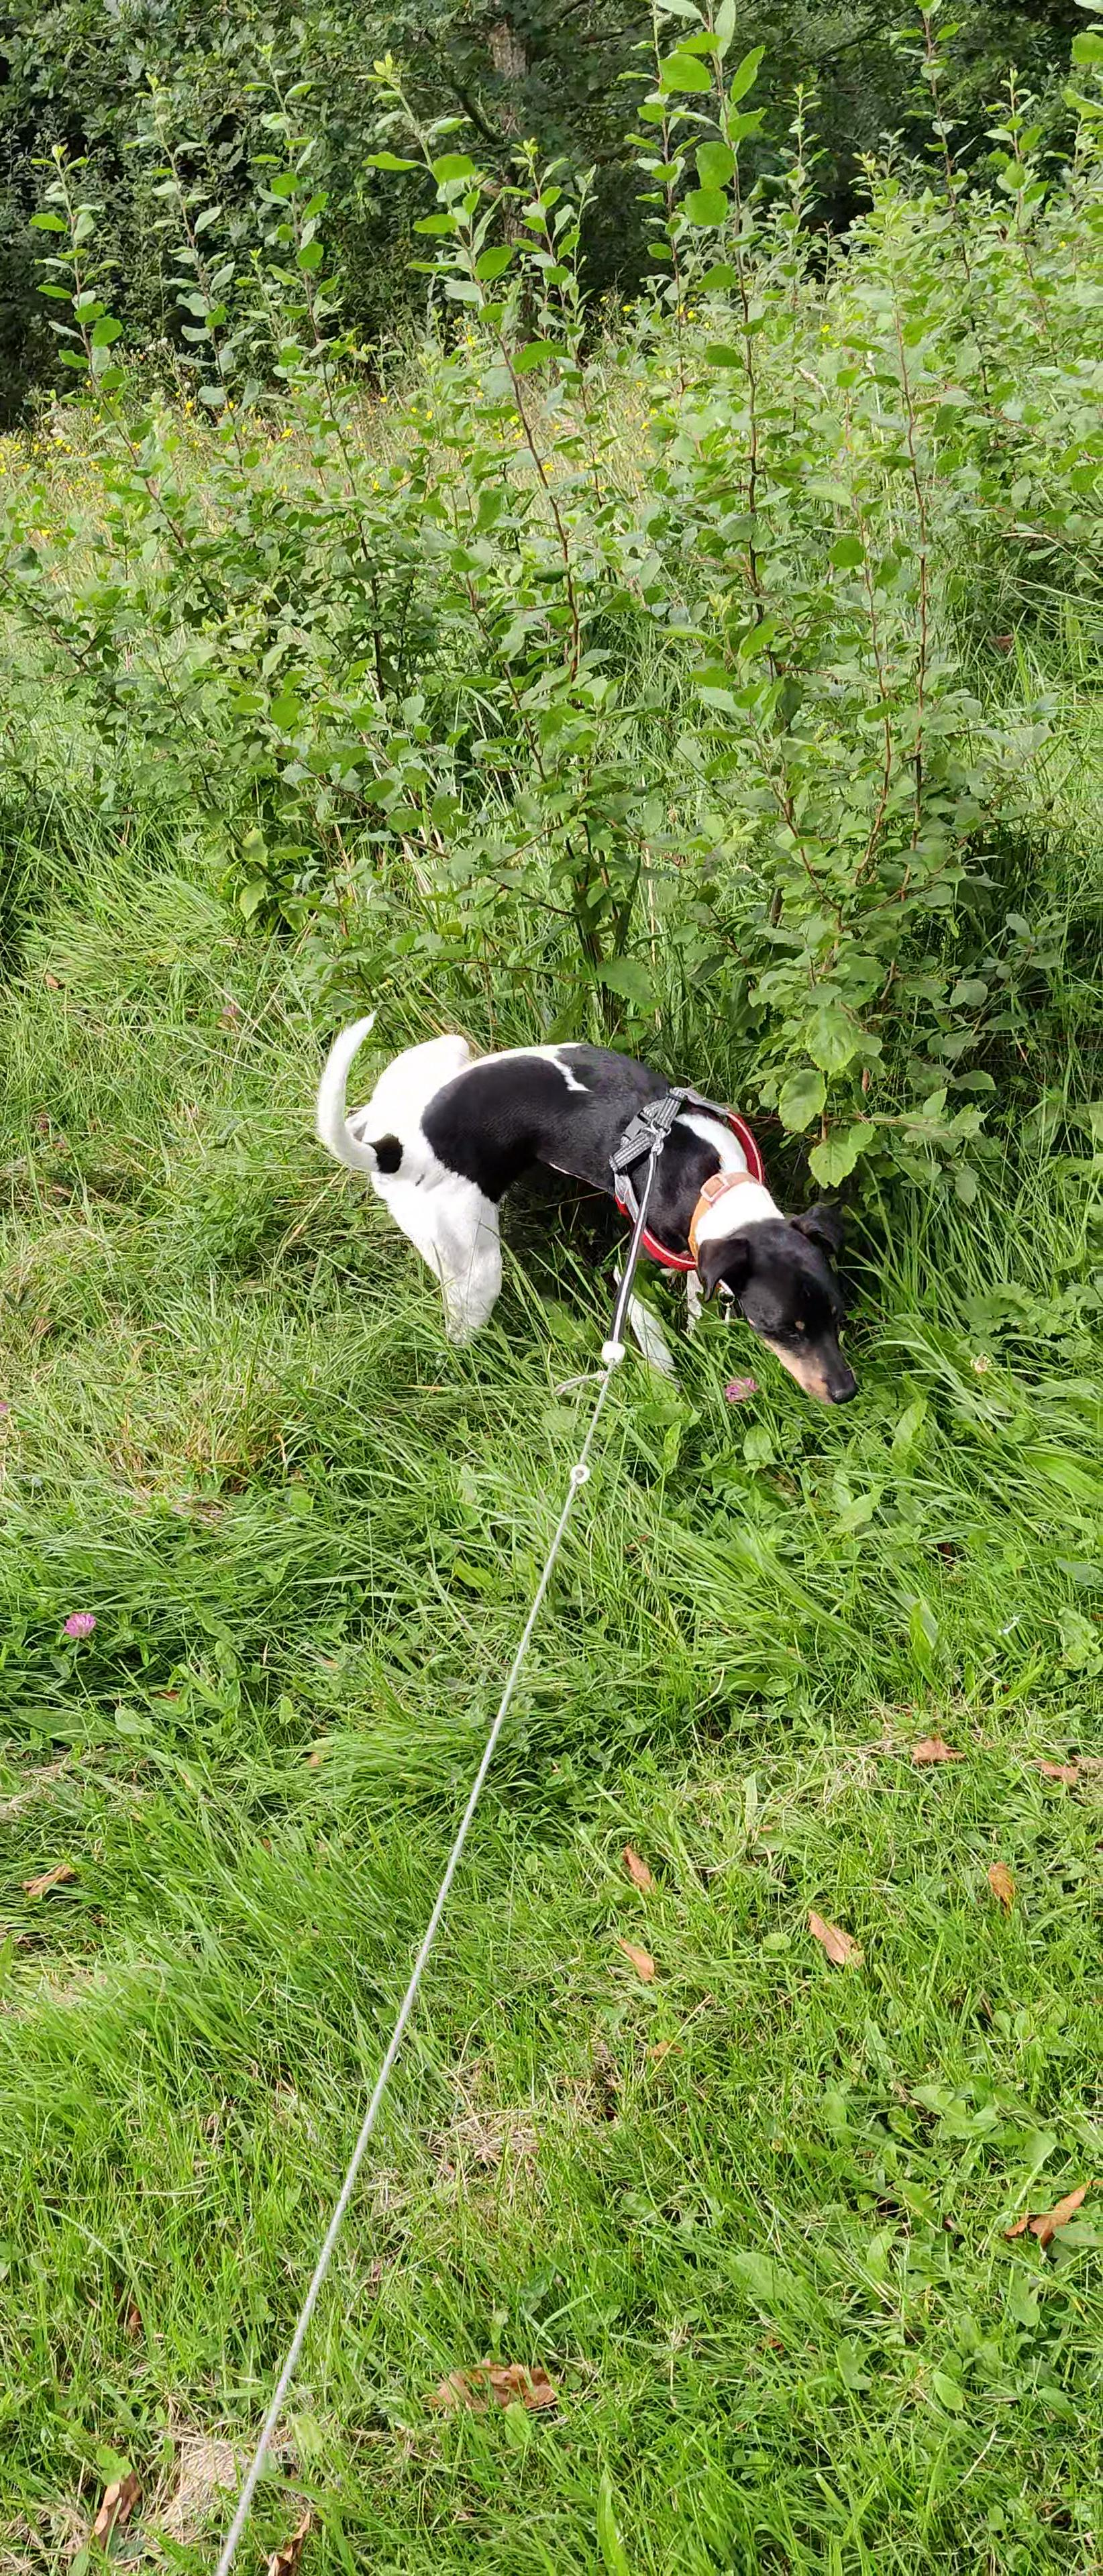Dog: (314, 996, 876, 1433)
